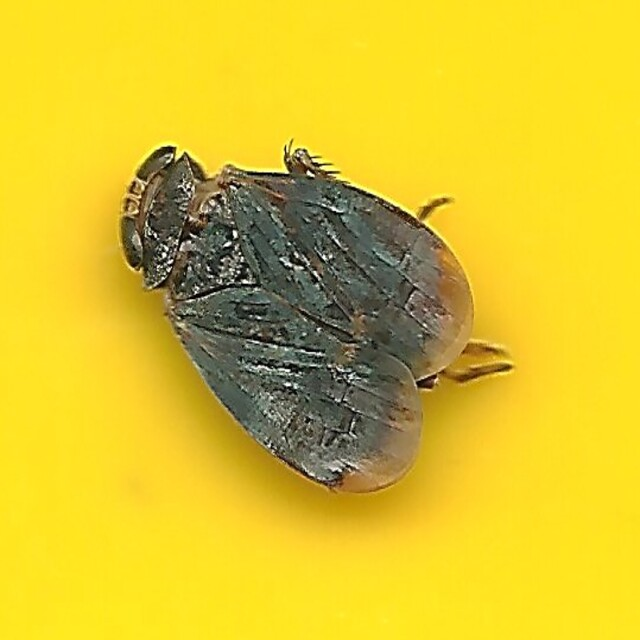Hemiptera: (119, 143, 521, 497)
